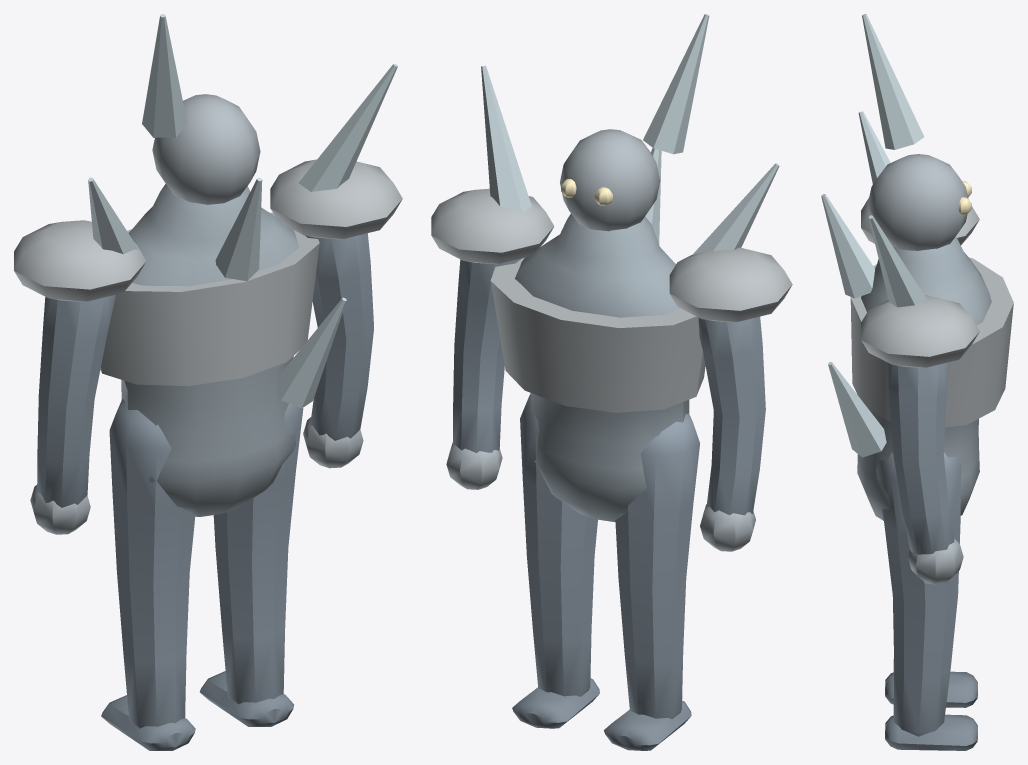
The model's file is ice_golem.gltf.
3 renders of one model, left to right at view 1: azimuth 30°, elevation 25°; view 2: azimuth 150°, elevation 25°; view 3: azimuth 270°, elevation 25°, orthographic. The views are drawn at different scales.
Visible parts, largest first — view 1: Body, SwingA, ArmL, ArmR, SwingB; view 2: Body, SwingA, ArmL, ArmR, SwingB; view 3: Body, ArmR, SwingB, SwingA, ArmL.
Boxes of the visible parts, x1,y1,x2,y2 form: Body: (88,14,397,516); SwingA: (101,399,195,750); ArmL: (14,220,146,534); ArmR: (270,159,402,468); SwingB: (200,403,303,726); Body: (481,14,779,521); SwingA: (604,413,699,750); ArmL: (669,247,792,551); ArmR: (431,188,554,489); SwingB: (512,393,599,728); Body: (821,14,1013,520); ArmR: (861,294,979,584); SwingB: (876,452,977,750); SwingA: (885,659,977,707); ArmL: (861,198,979,245).
Size of the model in its own units: 1.13 by 2.2 by 0.5665.
